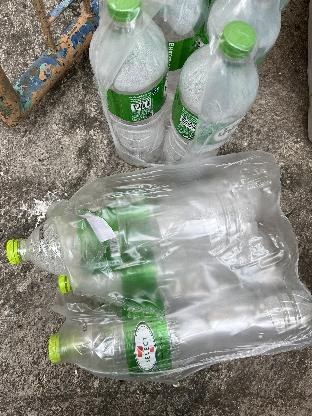Plastic Bottle: (46, 278, 312, 382), (5, 192, 249, 274), (57, 234, 280, 310), (162, 20, 262, 168), (90, 0, 164, 164), (138, 0, 204, 124), (207, 0, 281, 60)
